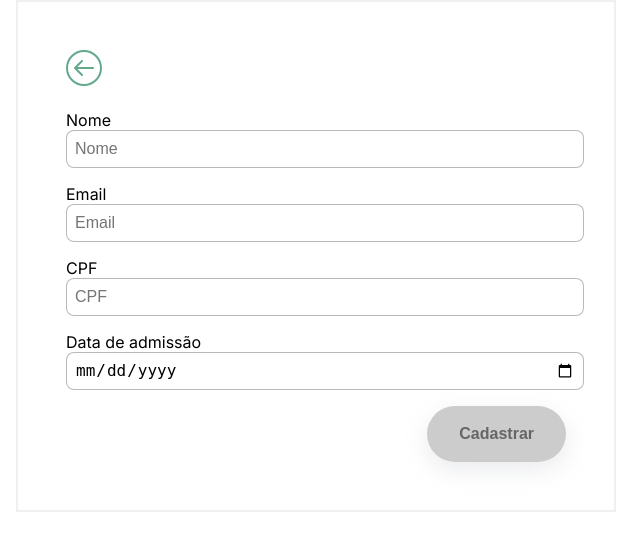
Test: NewUserPage › should display error message when email input changes and it is invalid
Type "a" into the field with placeholder "Email" at [325, 223], box [66, 204, 584, 242]
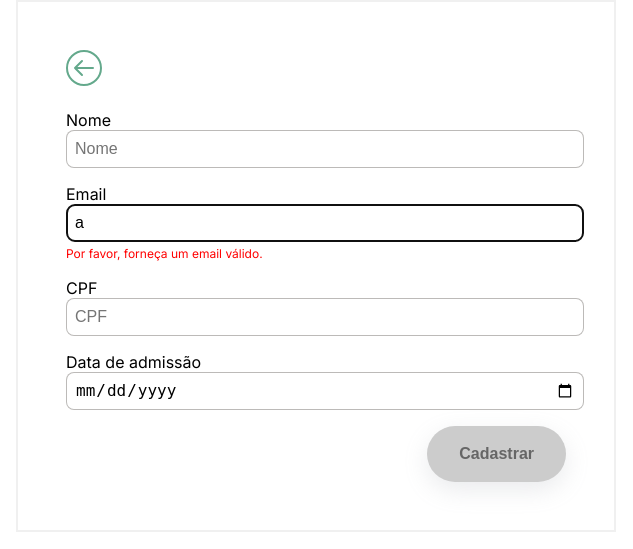
Expected: the text "Por favor, forneça um email válido." is shown, [66, 246, 263, 261]
